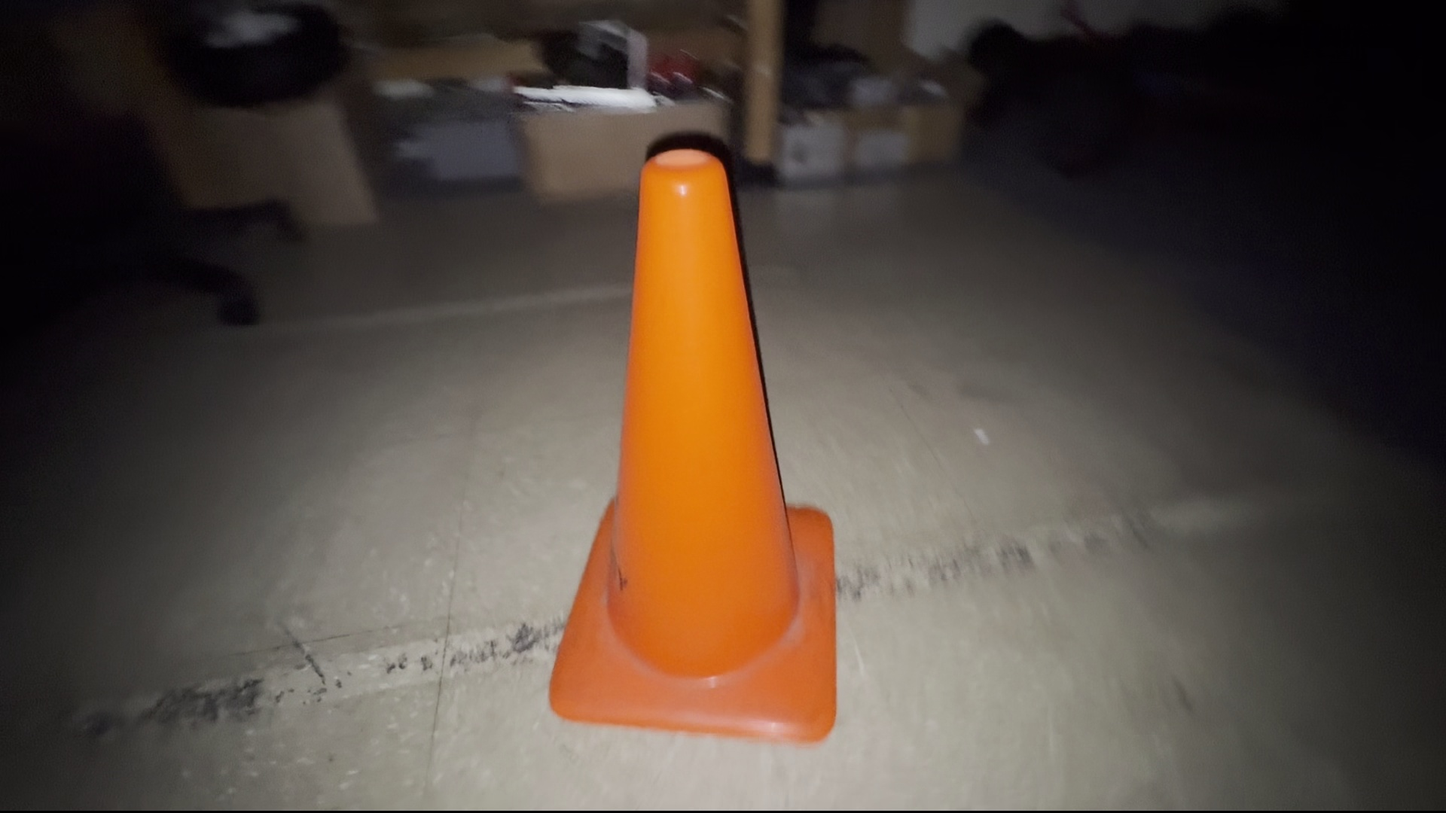traffic_cone: (548, 139, 838, 745)
